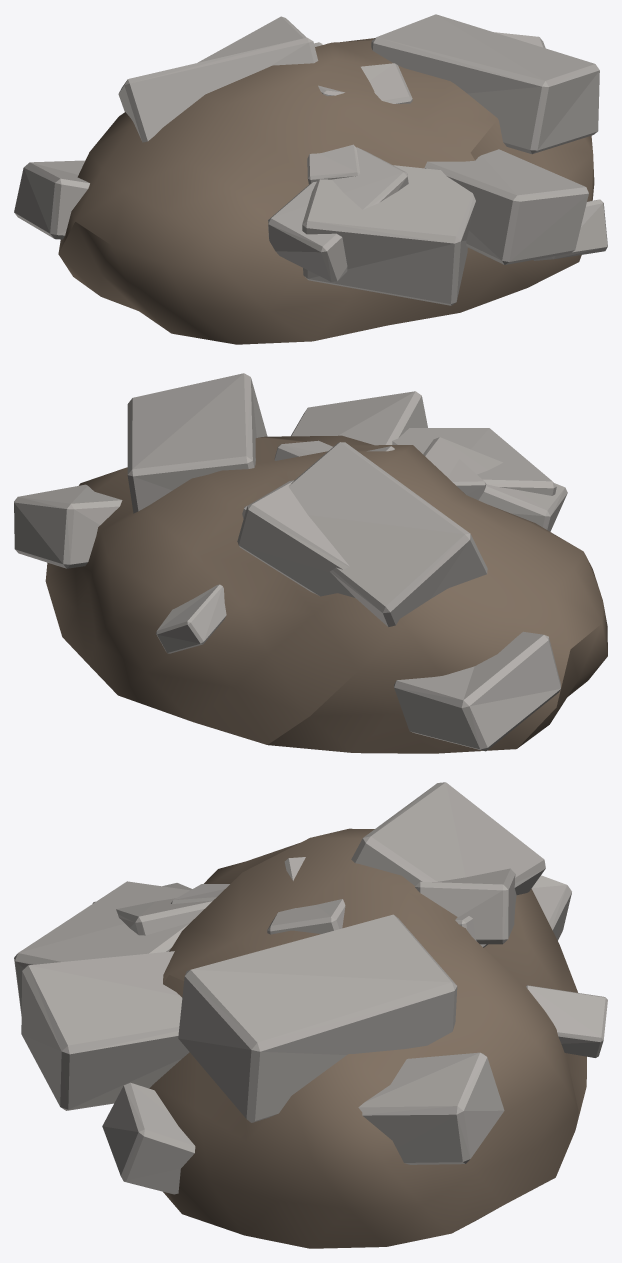
Rendered from rubble_small.glb.
3 views of the same model, one above another, from view 1: azimuth 30°, elevation 25°; view 2: azimuth 150°, elevation 25°; view 3: azimuth 270°, elevation 25° (orthographic). The views are drawn at different scales.
Parts seen in each view (by area): view 1: earth, stone; view 2: earth, stone; view 3: stone, earth.
Part boxes in pixels (x1=…): earth: x1=58, y1=38, x2=594, y2=344; stone: x1=14, y1=14, x2=607, y2=305; earth: x1=45, y1=435, x2=607, y2=753; stone: x1=14, y1=373, x2=567, y2=751; stone: x1=14, y1=782, x2=607, y2=1194; earth: x1=149, y1=828, x2=586, y2=1248.
Bounding box in the file's own units: 3.89 × 1.59 × 3.26.
